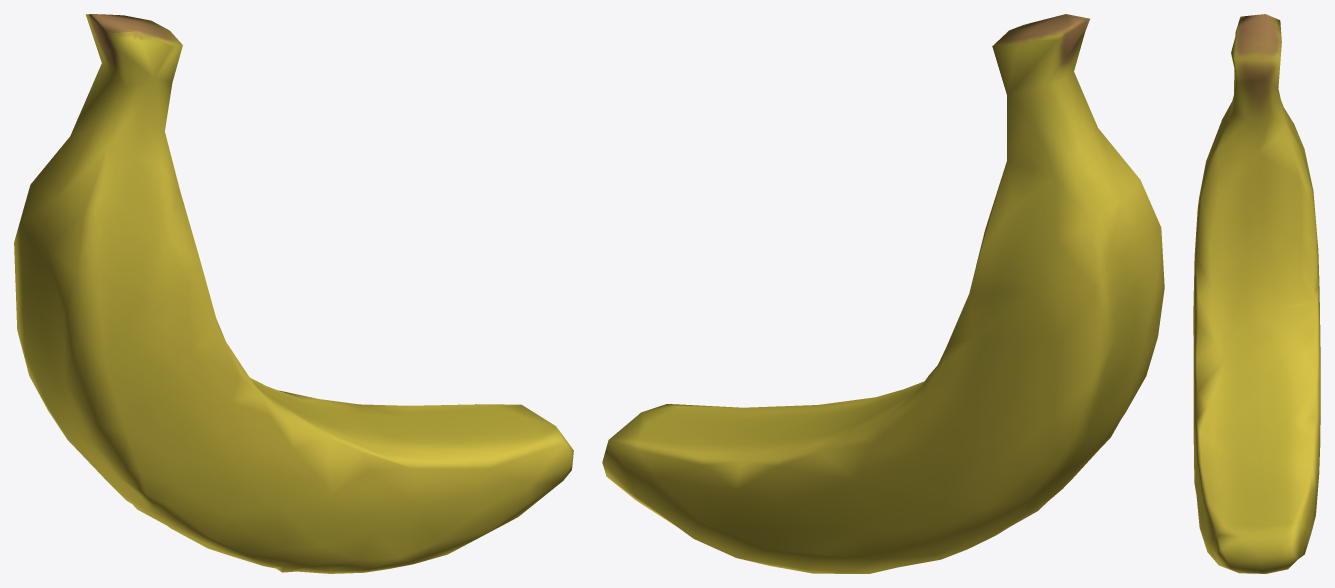
3 renders of one model, left to right at view 1: azimuth 30°, elevation 25°; view 2: azimuth 150°, elevation 25°; view 3: azimuth 270°, elevation 25°, orthographic. The views are drawn at different scales.
Parts seen in each view (by area): view 1: part_0_body.002_2.001; view 2: part_0_body.002_2.001; view 3: part_0_body.002_2.001.
Part boxes in pixels (x1=…): part_0_body.002_2.001: x1=14, y1=14, x2=573, y2=573; part_0_body.002_2.001: x1=602, y1=14, x2=1164, y2=573; part_0_body.002_2.001: x1=1193, y1=14, x2=1320, y2=573.
Bounding box in the file's own units: 0.1376 × 0.1536 × 0.0409.
Materials: 1 (1 with a texture image).
